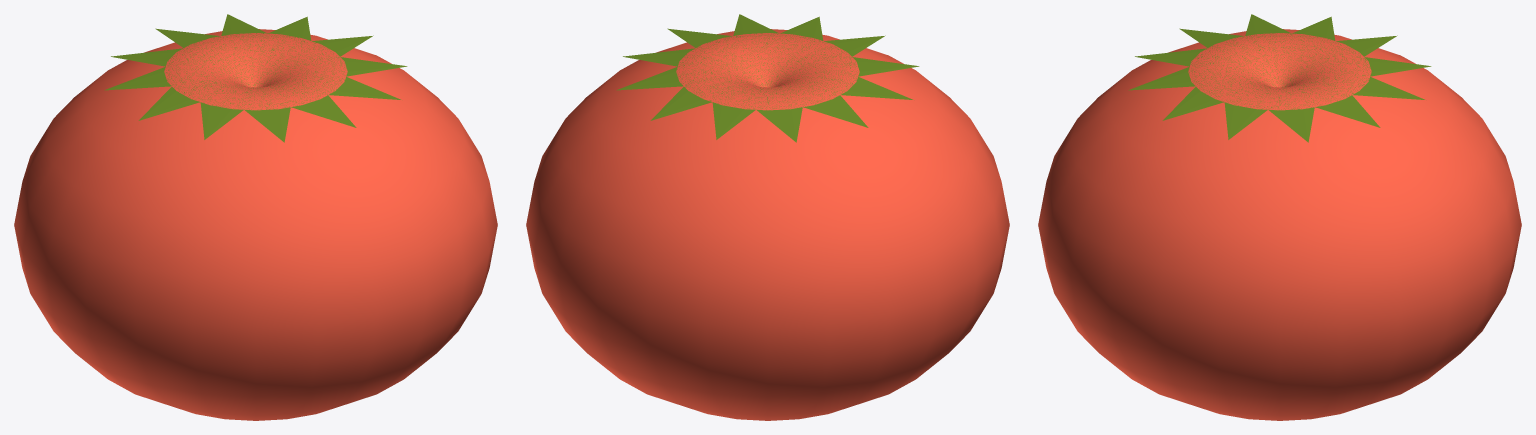
The model's file is model-tomato3 big.dae.
3 renders of one model, left to right at view 1: azimuth 30°, elevation 25°; view 2: azimuth 150°, elevation 25°; view 3: azimuth 270°, elevation 25°, orthographic.
Visible parts, largest first — view 1: SketchUp (×14); view 2: SketchUp (×14); view 3: SketchUp (×14).
Part boxes in pixels (x1=…): SketchUp (×14): x1=14, y1=14, x2=497, y2=420; SketchUp (×14): x1=526, y1=14, x2=1009, y2=420; SketchUp (×14): x1=1038, y1=14, x2=1521, y2=420.
Bounding box in the file's own units: 28.88 × 28.88 × 20.58.
